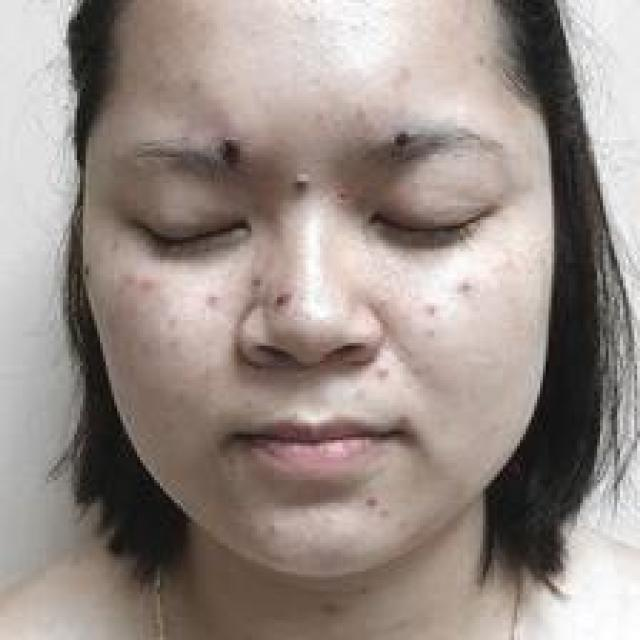others: (120, 86, 538, 552)
